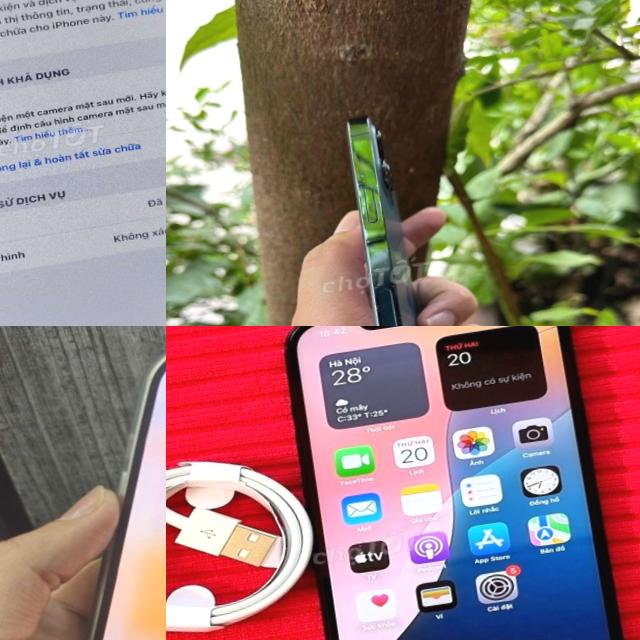gen_12_13: (272, 326, 639, 640), (0, 326, 166, 640), (304, 94, 485, 326)
gen_14: (0, 0, 166, 326)
